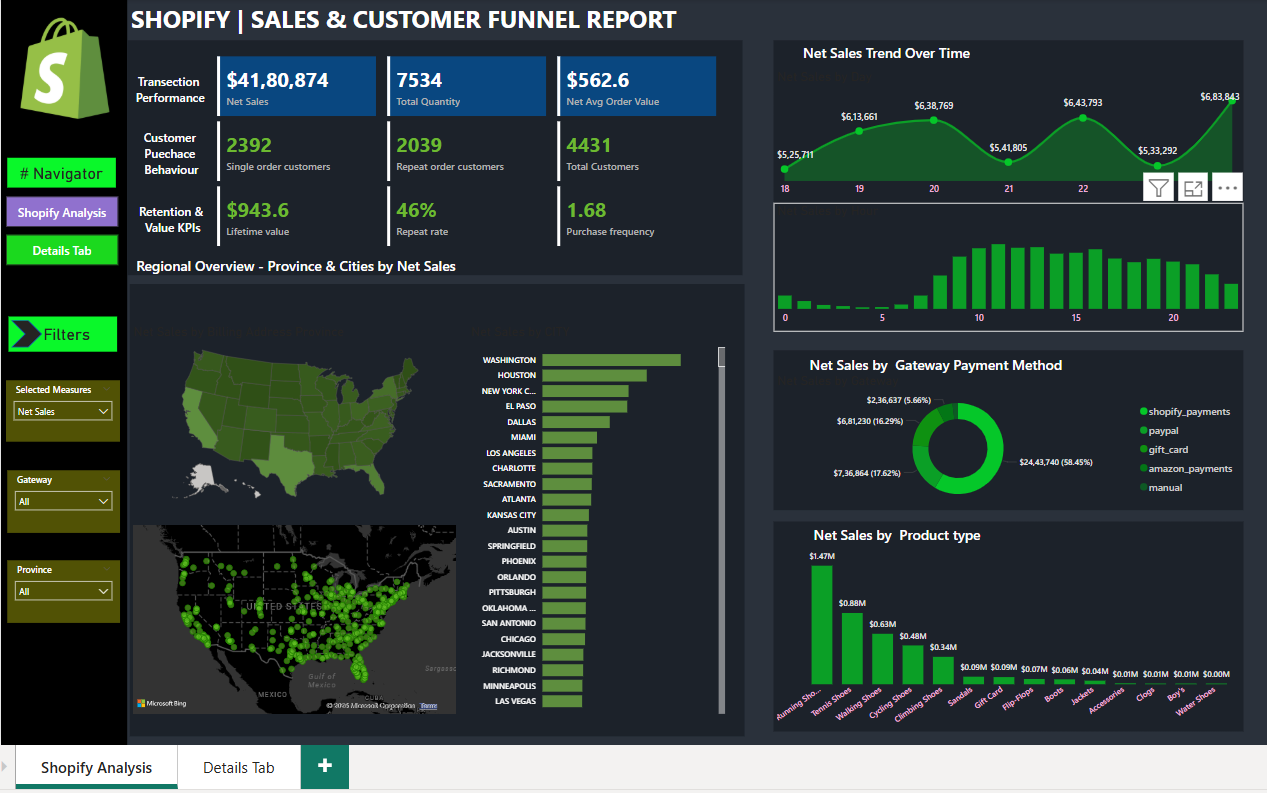

This screenshot's page, from the dashboard's own definition file:
{"tool":"powerbi","page":{"name":"Shopify Analysis","canvas":[1700,1000],"ordinal":0},"visuals":[{"type":"shape","box":[0,0,169.2,1000.3],"z":0},{"type":"textbox","box":[169.5,0,749,54.7],"z":1000},{"type":"shape","box":[169.5,54.7,825,315],"z":2000},{"type":"cardVisual","fields":{"Data":["shopify_sales.Net Sales","shopify_sales.Total Quantity","shopify_sales.Net Avg Order Value"]},"box":[284.9,72.1,680.3,90.5],"z":3000},{"type":"card","fields":{"Values":["shopify_sales.Transetion Perf"]},"box":[169.2,78.8,115.6,83.8],"z":4000},{"type":"cardVisual","fields":{"Data":["shopify_sales.Single order customers","shopify_sales.Repeat order customers","shopify_sales.Total Customers"]},"box":[284.9,159.2,680.3,90.5],"z":5000},{"type":"card","fields":{"Values":["shopify_sales.cust behav"]},"box":[170.9,162.5,115.6,83.8],"z":6000},{"type":"cardVisual","fields":{"Data":["shopify_sales.Lifetime value","shopify_sales.Repeat rate","shopify_sales.Purchase frequency"]},"box":[284.9,246.3,680.3,90.5],"z":7000},{"type":"card","fields":{"Values":["shopify_sales.Retention & value KPIs"]},"box":[172.6,253,115.6,83.8],"z":8000},{"type":"shape","box":[172.6,382,824.4,606.6],"z":9000},{"type":"shapeMap","fields":{"Value":["shopify_sales.Net Sales"],"Category":["shopify_sales.Billing Address Province"]},"box":[172.6,435.7,444,249.7],"z":10000},{"type":"slicer","fields":{"Values":["Selected measures.Selected measures"]},"box":[7.4,510.4,152.5,82.1],"z":11000},{"type":"map","fields":{"Category":["shopify_sales.location"]},"box":[172.6,700.4,442.4,263.1],"z":12000},{"type":"clusteredBarChart","fields":{"Y":["shopify_sales.Net Sales"],"Category":["shopify_sales.CITY"]},"box":[625,435.7,350.2,527.8],"z":13000},{"type":"card","fields":{"Values":["shopify_sales.Map title"]},"box":[172.6,340.1,445.7,38.5],"z":14000},{"type":"shape","box":[1035.5,55.3,630,390.4],"z":15000},{"type":"areaChart","fields":{"Y":["shopify_sales.Net Sales"],"Category":["shopify_sales.Invoice Date.Variation.Date Hierarchy.Day"]},"box":[1035.5,93.8,630,179.3],"z":16000},{"type":"columnChart","fields":{"Y":["shopify_sales.Net Sales"],"Category":["shopify_sales.Hour"]},"box":[1035.5,273.1,630,172.6],"z":17000},{"type":"card","fields":{"Values":["shopify_sales.Trend Title"]},"box":[1035.5,55.3,303.3,38.5],"z":18000},{"type":"shape","box":[1035.5,470.8,630,214.5],"z":19000},{"type":"donutChart","fields":{"Y":["shopify_sales.Net Sales"],"Category":["shopify_sales.Gateway"]},"box":[1035.5,501,630,184.3],"z":20000},{"type":"card","fields":{"Values":["shopify_sales.Gateway Title"]},"box":[1035.5,470.8,435.7,41.9],"z":21000},{"type":"shape","box":[1035.5,700.4,630,281.5],"z":22000},{"type":"columnChart","fields":{"Y":["shopify_sales.Net Sales"],"Category":["shopify_sales.Product Type"]},"box":[1035.5,720.5,630,261.4],"z":23000},{"type":"card","fields":{"Values":["shopify_sales.Product Title"]},"box":[1035.5,700.4,331.8,38.5],"z":24000},{"type":"image","box":[13.4,20.1,144.1,145.8],"z":25000},{"type":"slicer","fields":{"Values":["shopify_sales.Gateway"]},"box":[9,631.7,150.8,83.8],"z":26000},{"type":"slicer","fields":{"Values":["shopify_sales.Billing Address Province"]},"box":[9,752.3,150.8,83.8],"z":27000},{"type":"pageNavigator","box":[6.7,264.7,150.8,93.8],"z":28000},{"type":"card","fields":{"Values":["shopify_sales.Measure"]},"box":[10.1,425.6,145.8,46.9],"z":29000},{"type":"shape","box":[13.4,430.6,41.9,36.9],"z":30000},{"type":"card","fields":{"Values":["shopify_sales.Measure 2"]},"box":[8.4,212.8,145.8,40.2],"z":30001}]}

Visuals, with their boxes on the page's 1700x1000 design canvas (x1, y1, x2, y2). These are canvas units, not pixel positions in the 1267x793 screenshot, which may show the page scaled, cropped or inside an application window:
shape: x1=0, y1=0, x2=169, y2=1000
textbox: x1=170, y1=0, x2=918, y2=55
shape: x1=170, y1=55, x2=994, y2=370
cardVisual - shopify_sales.Net Sales x shopify_sales.Total Quantity: x1=285, y1=72, x2=965, y2=163
card - shopify_sales.Transetion Perf: x1=169, y1=79, x2=285, y2=163
cardVisual - shopify_sales.Single order customers x shopify_sales.Repeat order customers: x1=285, y1=159, x2=965, y2=250
card - shopify_sales.cust behav: x1=171, y1=162, x2=286, y2=246
cardVisual - shopify_sales.Lifetime value x shopify_sales.Repeat rate: x1=285, y1=246, x2=965, y2=337
card - shopify_sales.Retention & value KPIs: x1=173, y1=253, x2=288, y2=337
shape: x1=173, y1=382, x2=997, y2=989
shapeMap - shopify_sales.Net Sales x shopify_sales.Billing Address Province: x1=173, y1=436, x2=617, y2=685
slicer - Selected measures.Selected measures: x1=7, y1=510, x2=160, y2=592
map - shopify_sales.location: x1=173, y1=700, x2=615, y2=964
clusteredBarChart - shopify_sales.Net Sales x shopify_sales.CITY: x1=625, y1=436, x2=975, y2=964
card - shopify_sales.Map title: x1=173, y1=340, x2=618, y2=379
shape: x1=1036, y1=55, x2=1666, y2=446
areaChart - shopify_sales.Net Sales x shopify_sales.Invoice Date.Variation.Date Hierarchy.Day: x1=1036, y1=94, x2=1666, y2=273
columnChart - shopify_sales.Net Sales x shopify_sales.Hour: x1=1036, y1=273, x2=1666, y2=446
card - shopify_sales.Trend Title: x1=1036, y1=55, x2=1339, y2=94
shape: x1=1036, y1=471, x2=1666, y2=685
donutChart - shopify_sales.Net Sales x shopify_sales.Gateway: x1=1036, y1=501, x2=1666, y2=685
card - shopify_sales.Gateway Title: x1=1036, y1=471, x2=1471, y2=513
shape: x1=1036, y1=700, x2=1666, y2=982
columnChart - shopify_sales.Net Sales x shopify_sales.Product Type: x1=1036, y1=720, x2=1666, y2=982
card - shopify_sales.Product Title: x1=1036, y1=700, x2=1367, y2=739
image: x1=13, y1=20, x2=158, y2=166
slicer - shopify_sales.Gateway: x1=9, y1=632, x2=160, y2=716
slicer - shopify_sales.Billing Address Province: x1=9, y1=752, x2=160, y2=836
pageNavigator: x1=7, y1=265, x2=158, y2=358
card - shopify_sales.Measure: x1=10, y1=426, x2=156, y2=472
shape: x1=13, y1=431, x2=55, y2=468
card - shopify_sales.Measure 2: x1=8, y1=213, x2=154, y2=253
